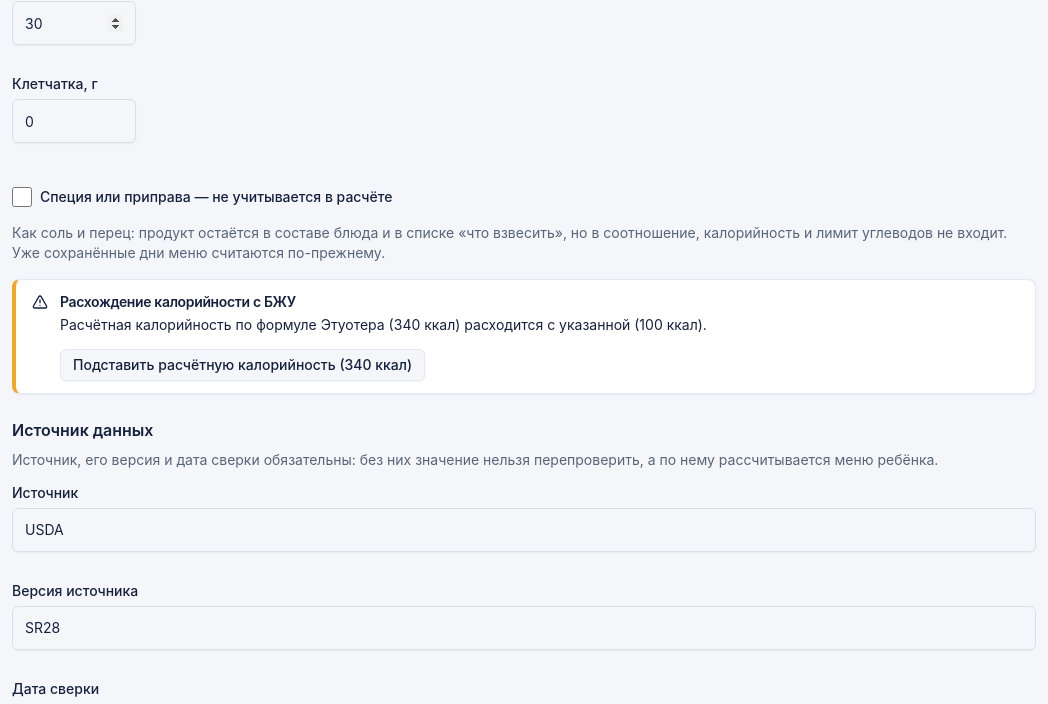
Test: карточка продукта: контроль калорийности по формуле Этуотера › показывает предупреждение при расхождении БЖУ и позволяет подставить расчётную калорийность
This screenshot has width=1048, height=704.
(page scrolled)
Expected: the text "Расхождение калорийности с БЖУ" is shown, 60,293 -> 296,310
Click the button "Подставить расчётную калорийность (340 ккал)". click: [243, 365]
box: 60,349 -> 425,381
(page scrolled)
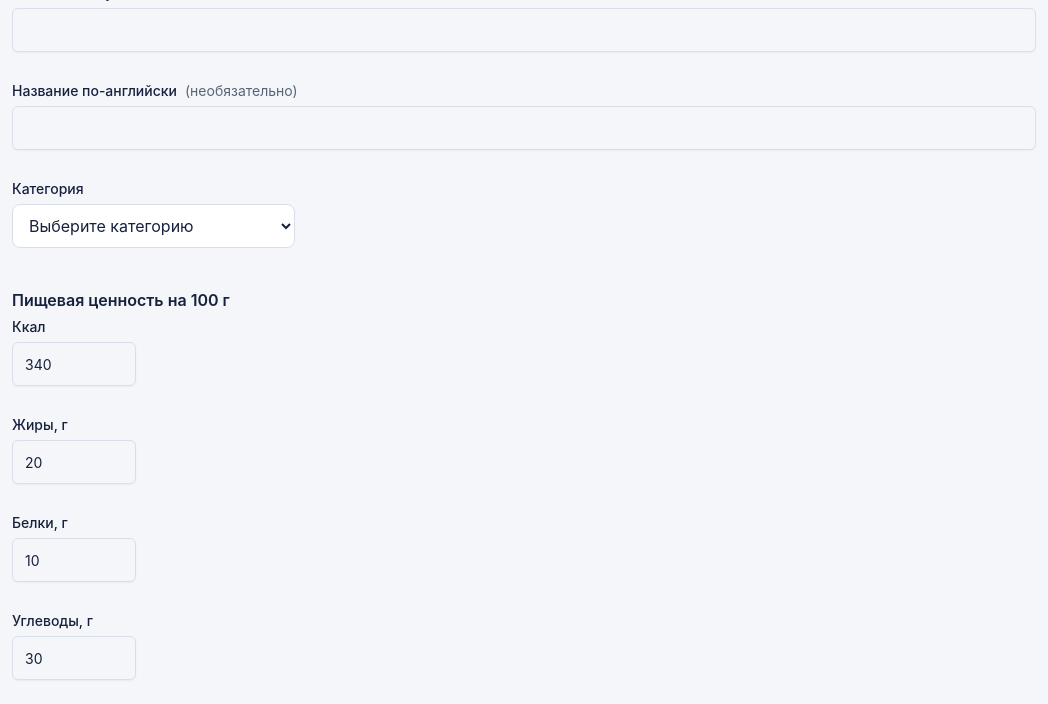
Expected: the number field labelled "Ккал" holds "340", 12,342 -> 136,386
Expected: the text "Расхождение калорийности с БЖУ" is gone
